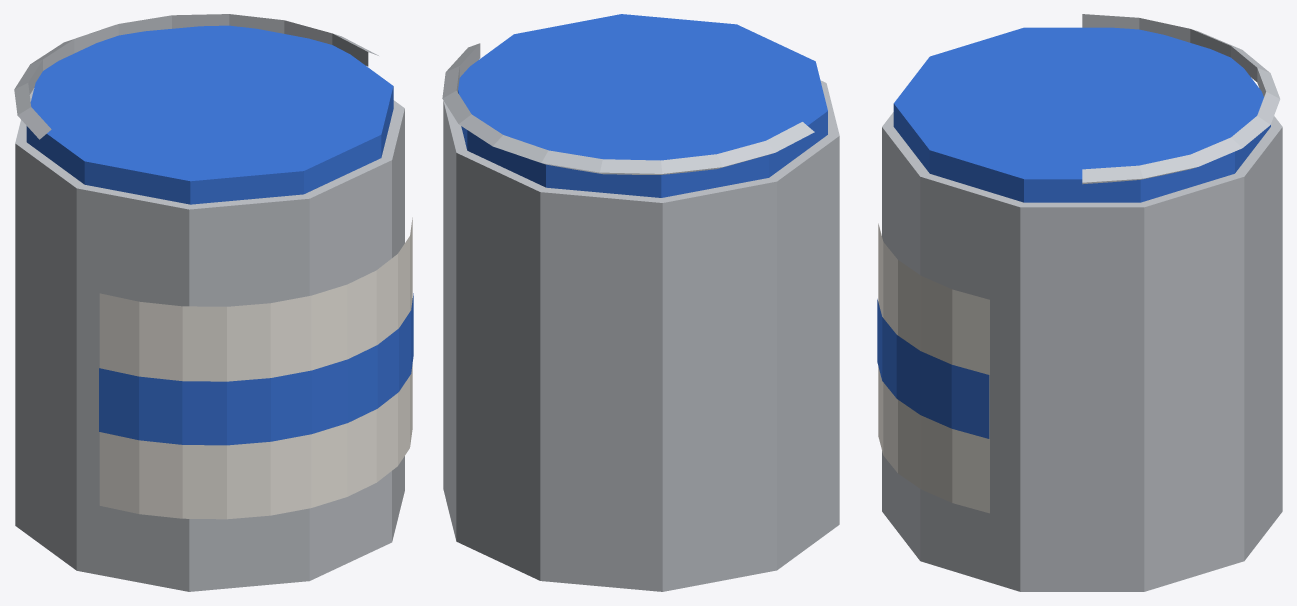
Rendered from paint_can_1.glb.
3 views of the same model, side by side, from view 1: azimuth 30°, elevation 25°; view 2: azimuth 150°, elevation 25°; view 3: azimuth 270°, elevation 25° (orthographic).
Visible parts, largest first — view 1: can_tin, lid, label_paint_label, label, handle_tin; view 2: can_tin, lid, handle_tin; view 3: can_tin, lid, label_paint_label, label, handle_tin.
Boxes of the visible parts, x1,y1,x2,y2 form: can_tin: [15, 89, 404, 591]; lid: [26, 25, 393, 204]; label_paint_label: [99, 217, 412, 519]; label: [99, 293, 413, 445]; handle_tin: [14, 14, 378, 139]; can_tin: [443, 80, 839, 591]; lid: [458, 14, 827, 197]; handle_tin: [442, 43, 814, 174]; can_tin: [882, 112, 1282, 591]; lid: [893, 27, 1270, 202]; label_paint_label: [878, 223, 989, 513]; label: [877, 299, 989, 438]; handle_tin: [1082, 14, 1280, 184].
Size of the model in its own units: 0.168 by 0.1965 by 0.172.
